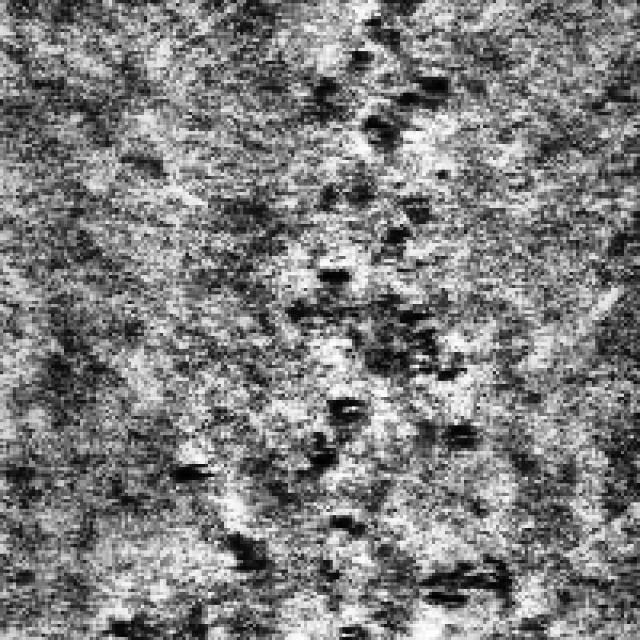Crazing: (304, 218, 480, 630), (304, 0, 451, 195), (381, 528, 528, 637)
